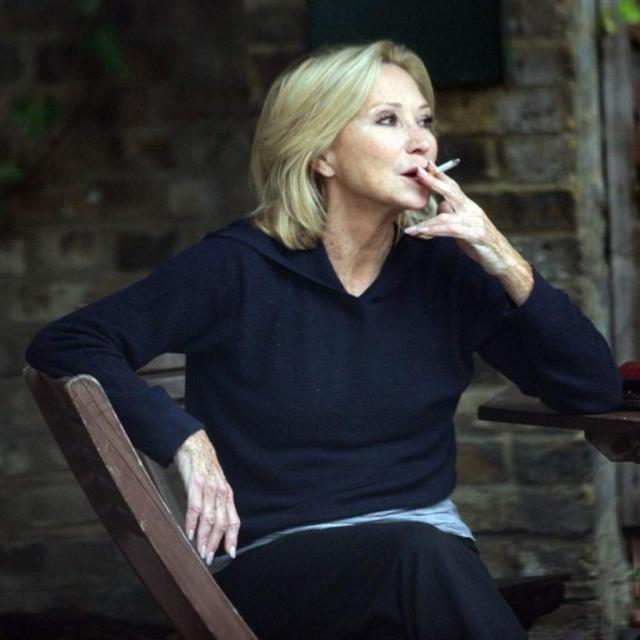smoking: (255, 43, 531, 282)
